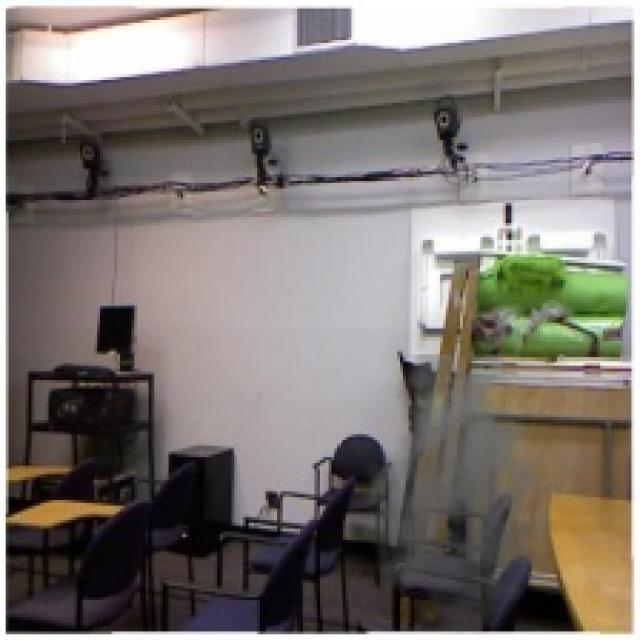smoke: (357, 354, 563, 634)
